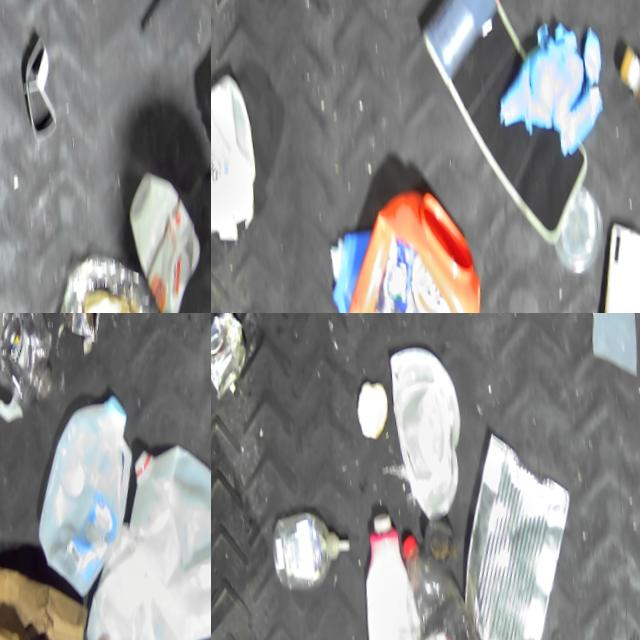can: (448, 419, 588, 640), (552, 175, 609, 270), (211, 313, 253, 401), (64, 313, 114, 343)
milk_jug: (28, 385, 149, 603), (122, 429, 211, 640), (77, 512, 200, 640), (211, 60, 267, 248), (356, 505, 433, 640)
non_white_jug: (334, 170, 500, 313), (0, 313, 65, 431)
plastic_bottle: (398, 526, 509, 640)
